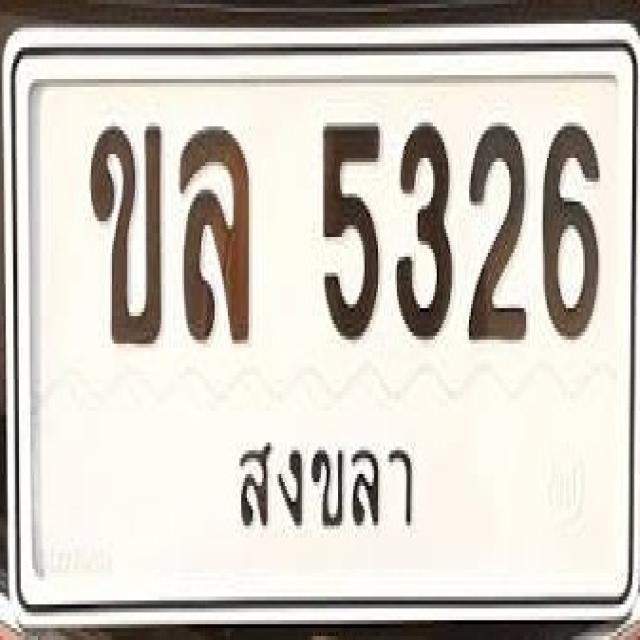license_plate: (6, 27, 639, 624)
